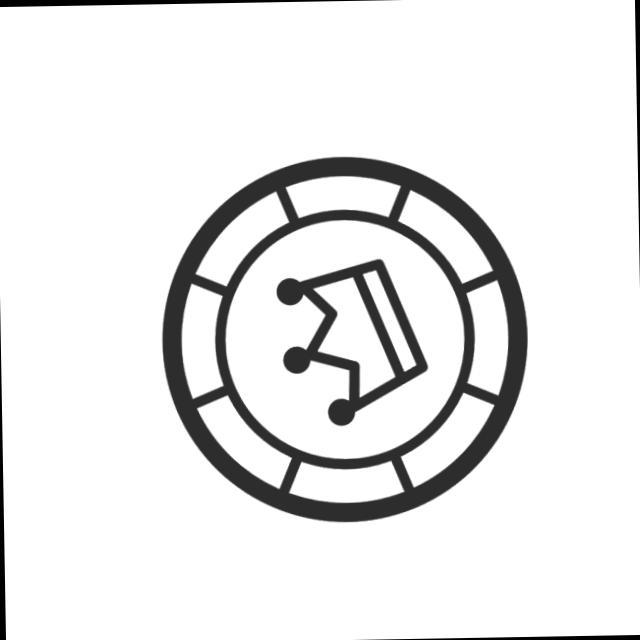coin: (151, 148, 542, 532)
